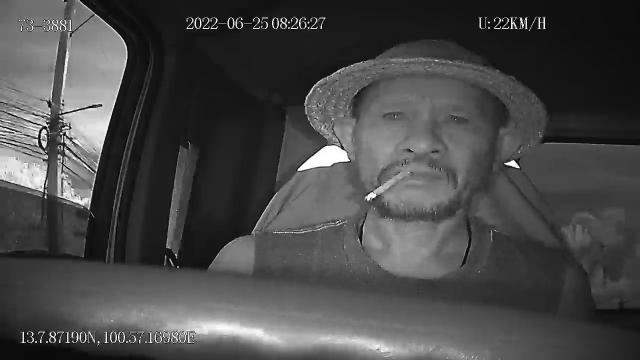SafeDriving: (436, 103, 476, 133), (376, 99, 412, 127)
Smoking: (364, 171, 410, 201)
